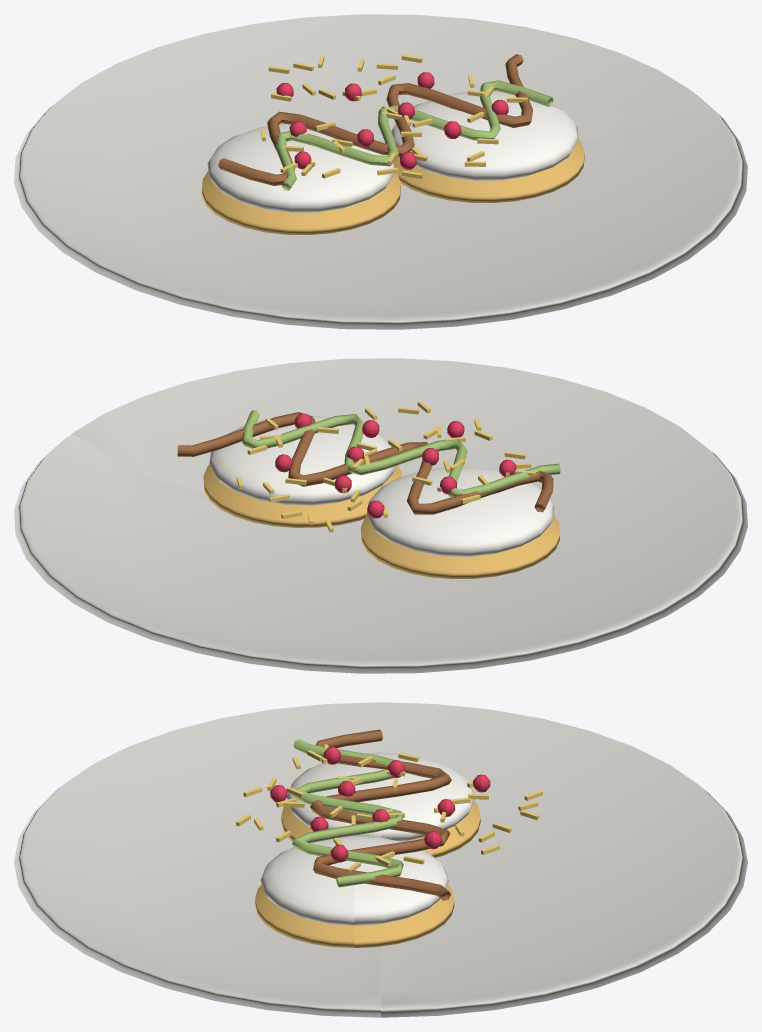
The model's file is aloo-tikki-chaat.glb.
3 views of the same model, one above another, from view 1: azimuth 30°, elevation 25°; view 2: azimuth 150°, elevation 25°; view 3: azimuth 270°, elevation 25° (orthographic).
Visible parts, largest first — view 1: aloo-tikki-chaat; view 2: aloo-tikki-chaat; view 3: aloo-tikki-chaat.
Part boxes in pixels (x1,y1,x2,y2): aloo-tikki-chaat: (14, 14, 747, 329); aloo-tikki-chaat: (14, 358, 747, 673); aloo-tikki-chaat: (14, 702, 747, 1017).
Size of the model in its own units: 0.28 by 0.0415 by 0.28.
